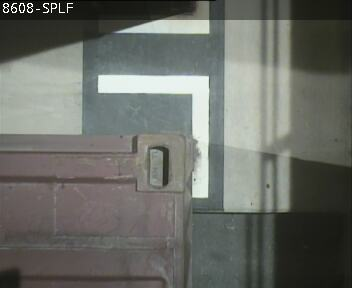groundmarker_1: (97, 1, 208, 191)
